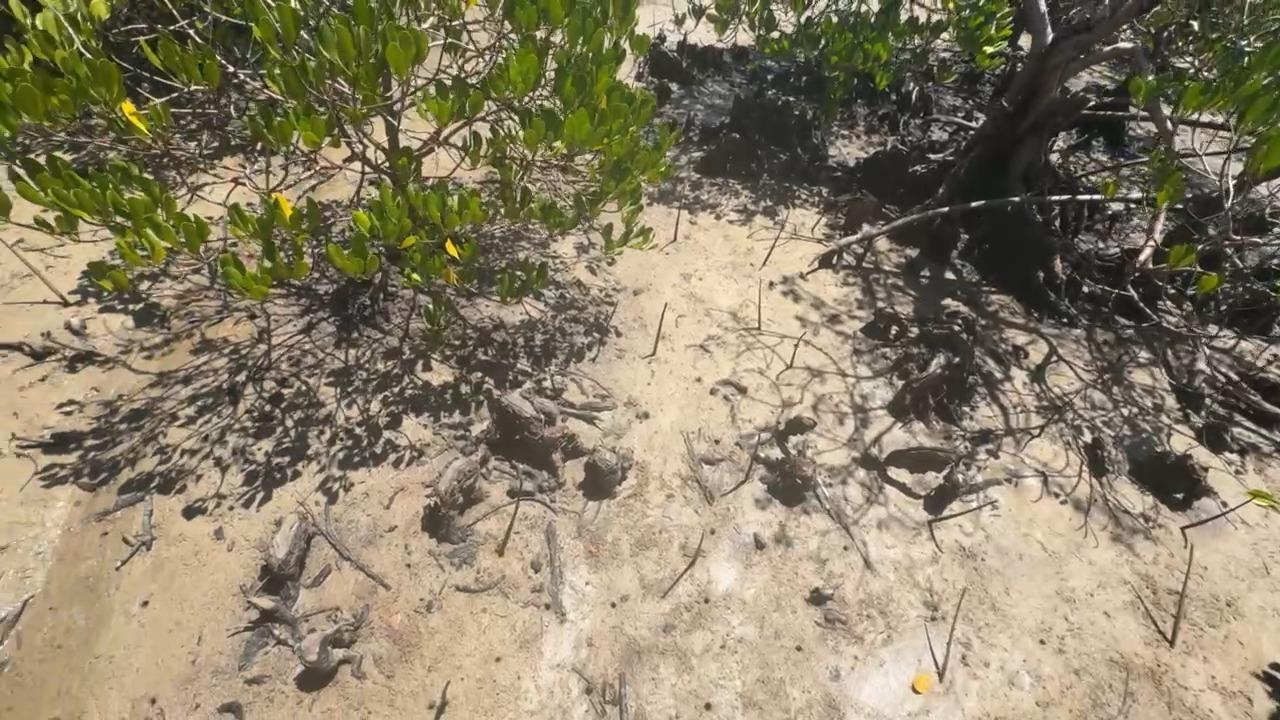Tree: (0, 236, 72, 307), (940, 587, 967, 683), (1169, 543, 1193, 648), (1179, 497, 1255, 529), (499, 475, 523, 556), (927, 499, 1001, 524), (762, 210, 791, 267), (652, 301, 668, 356), (744, 433, 761, 481), (674, 184, 686, 241), (789, 332, 807, 369), (811, 207, 827, 232), (692, 532, 704, 564), (758, 280, 764, 330), (441, 680, 453, 704)
